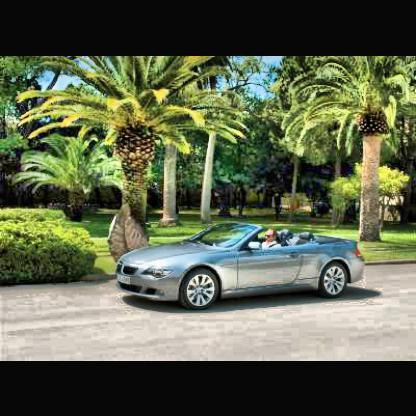BMW 6 Series Convertible 2007: (116, 222, 367, 315)
